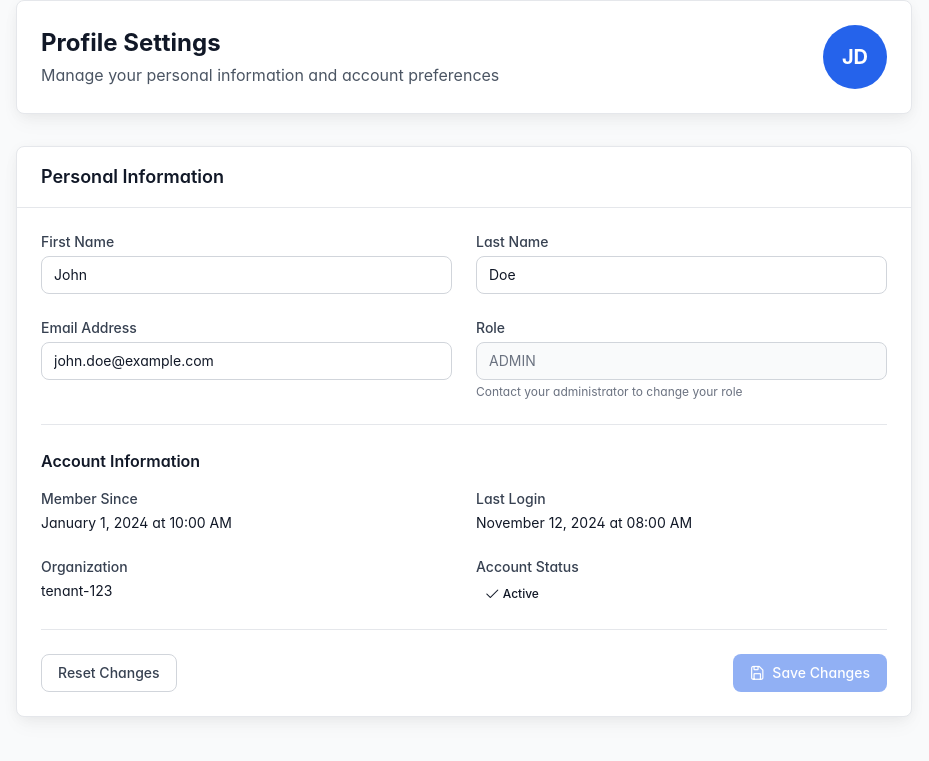
Test: ProfileView › Form Validation › should validate required first name
Clear the field with id "firstName" at point(246, 275), box [41,256,452,294]
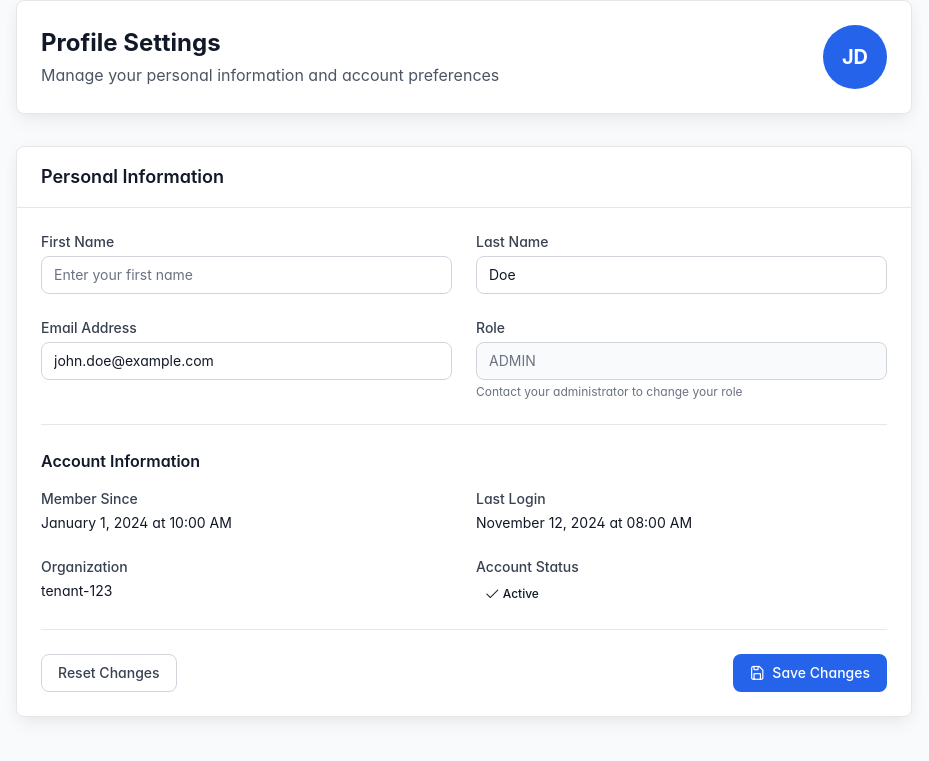
Submit the form
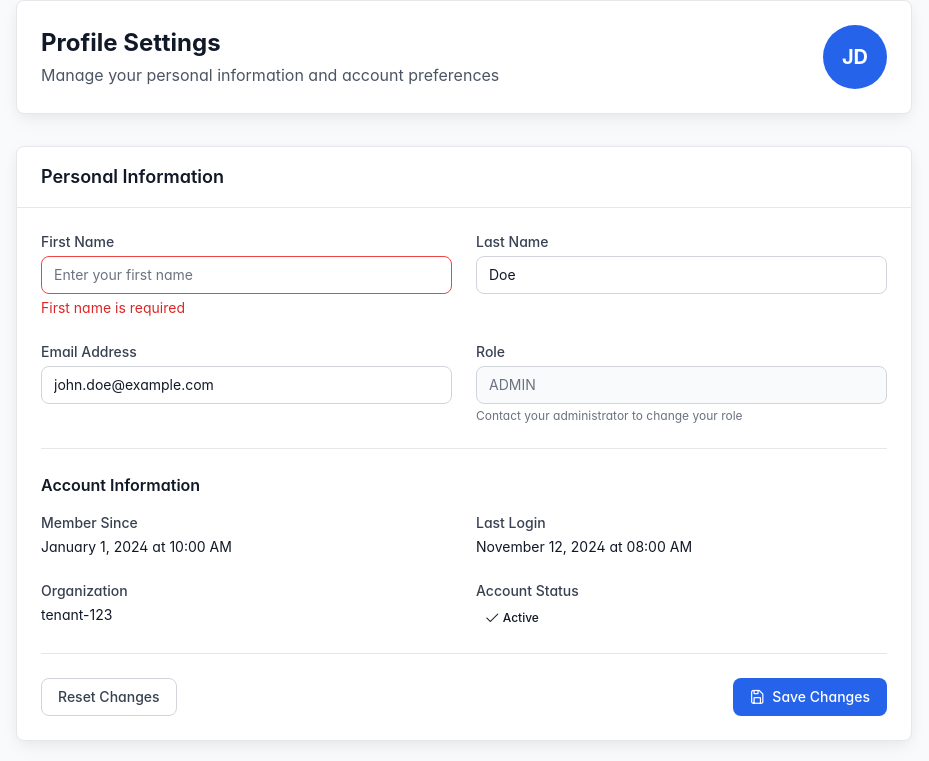
Check: the text "First name is required" is shown, box [41,299,185,316]
